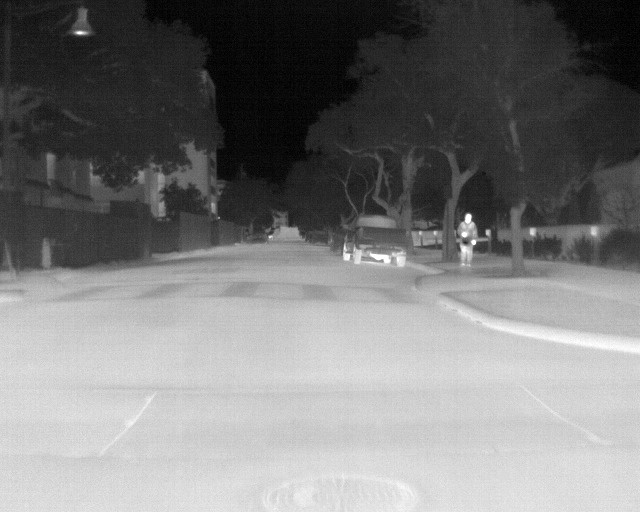vehicle: (341, 218, 414, 264)
